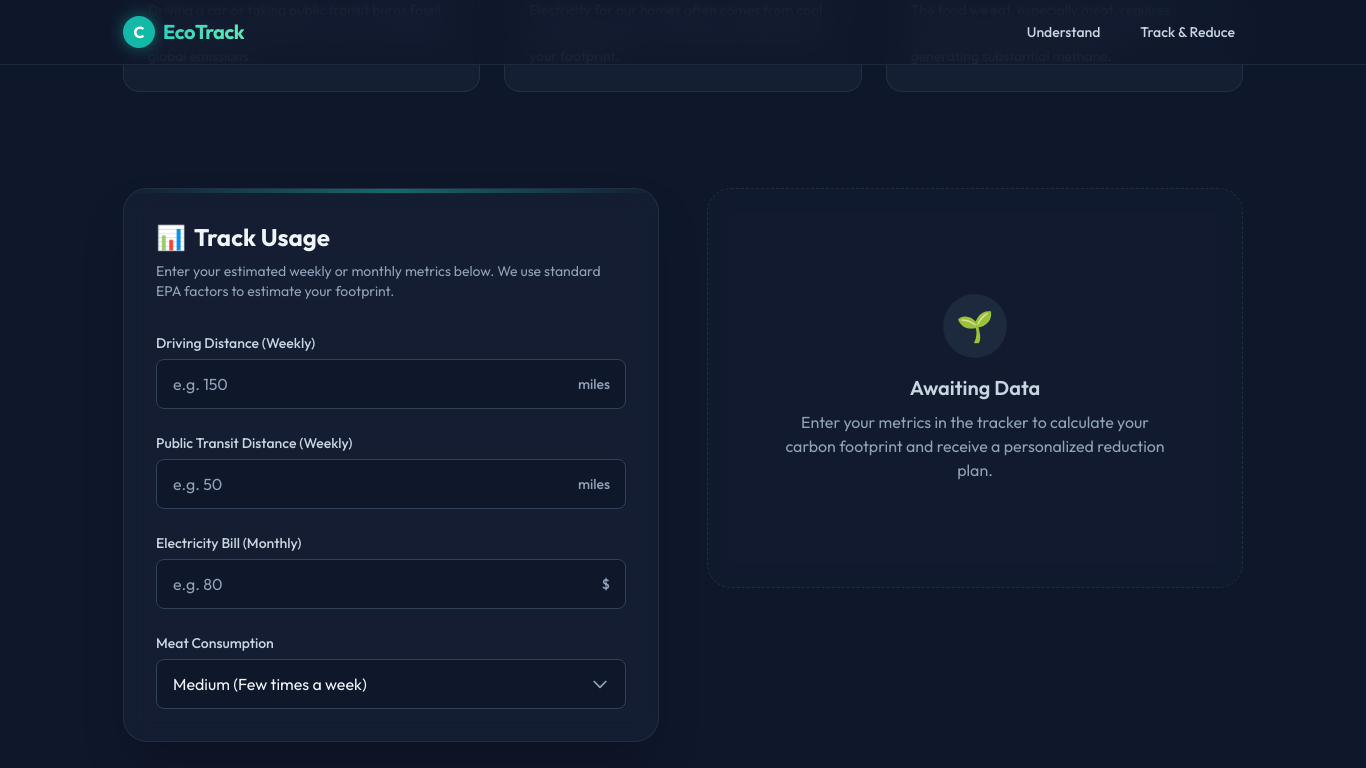
App Integration Test › updates total weekly emissions and personalized tips dynamically when user inputs data
This screenshot has width=1366, height=768.
(page scrolled)
# Enter transport data
Step 1. Type "100" into the field labelled "Driving Distance (Weekly)" → (391, 384), box [156,359,626,409]
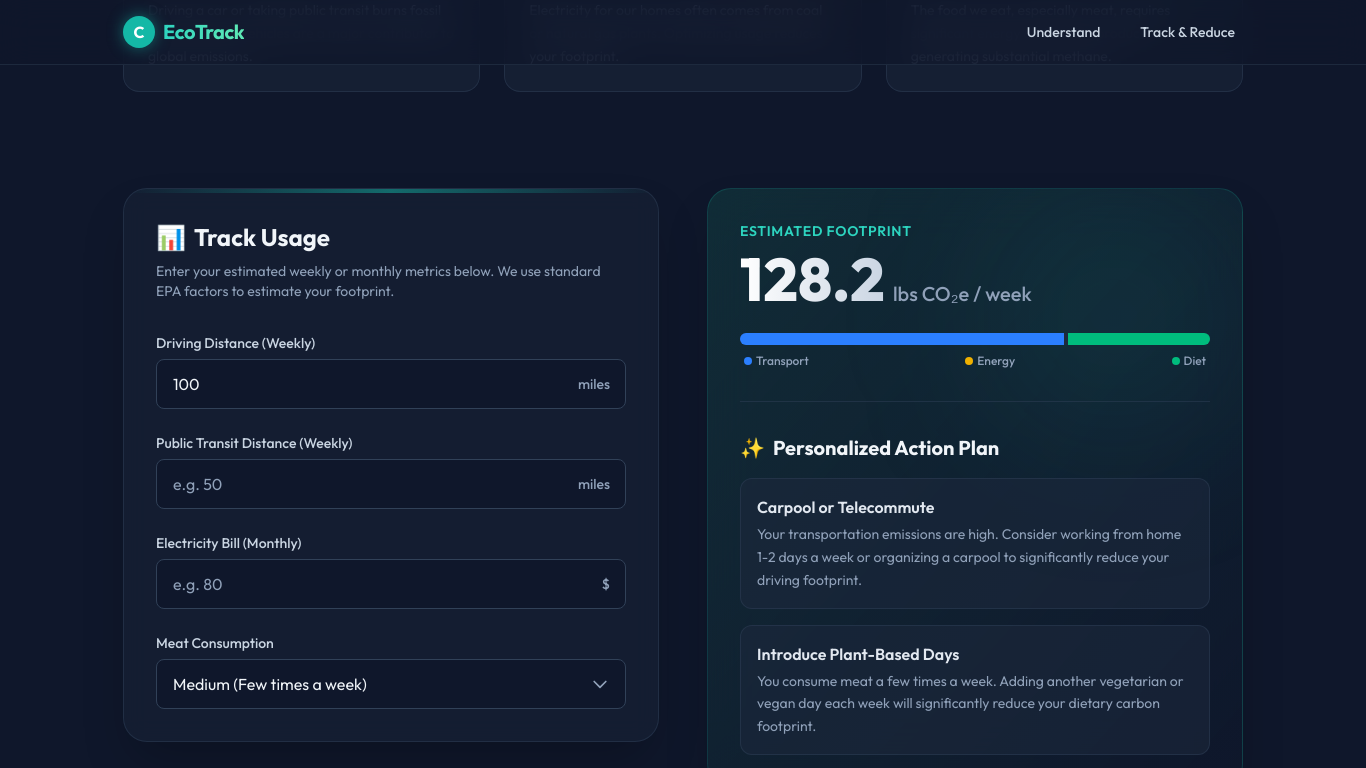
Step 2. Type "50" into the field labelled "Public Transit Distance (Weekly)" → (391, 484), box [156,459,626,509]
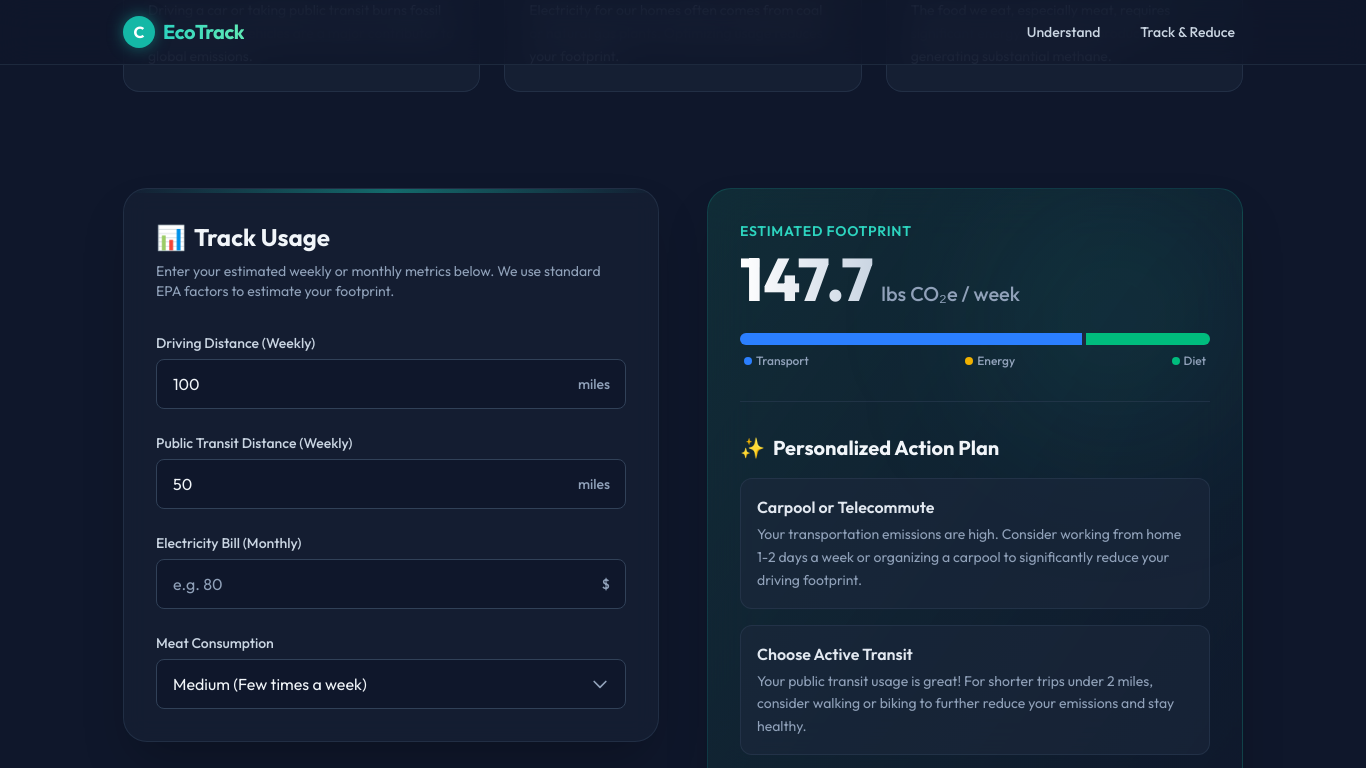
# Enter energy data
Step 3. Type "48" into the field labelled "Electricity Bill (Monthly)" → (391, 584), box [156,559,626,609]
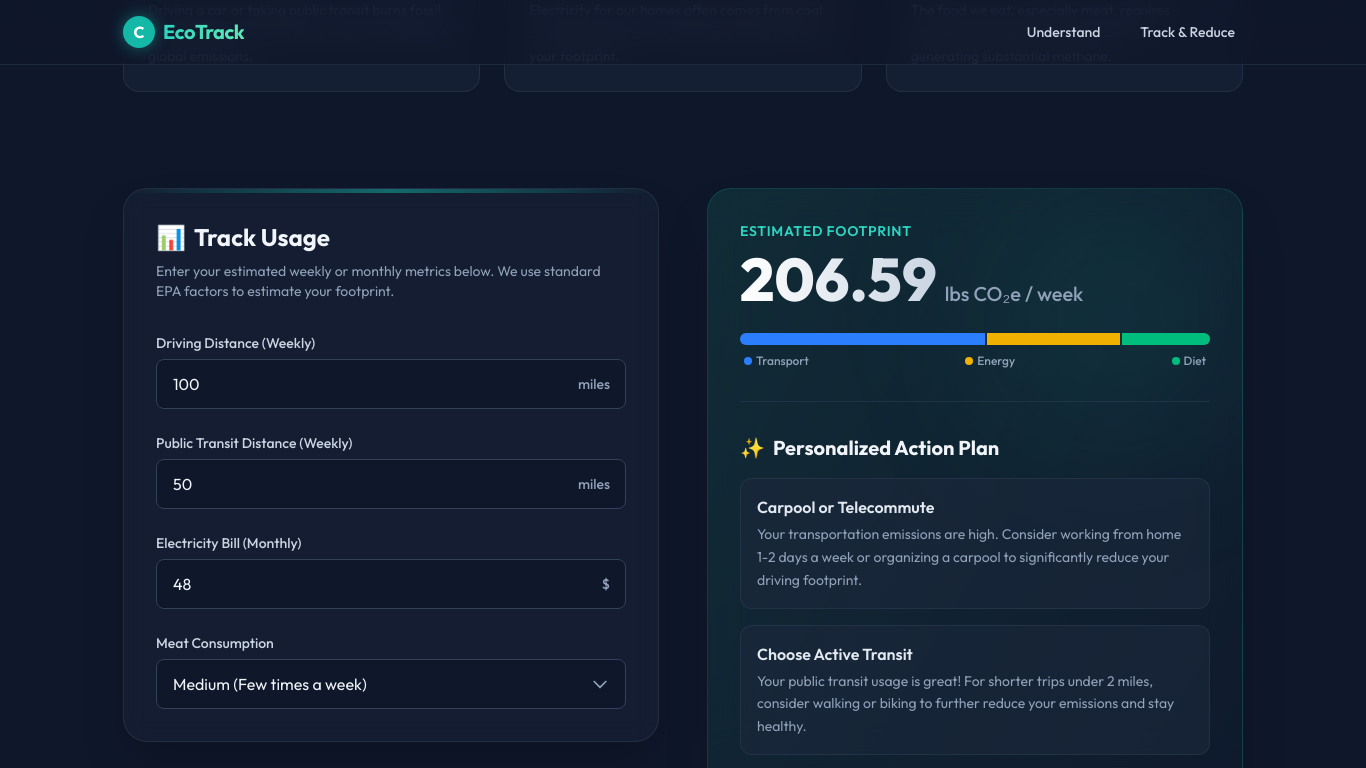
# Change meat consumption to high
Step 4. Select "High (Daily meat)" in the dropdown labelled "Meat Consumption" → (391, 684), box [156,659,626,709]
(page scrolled)
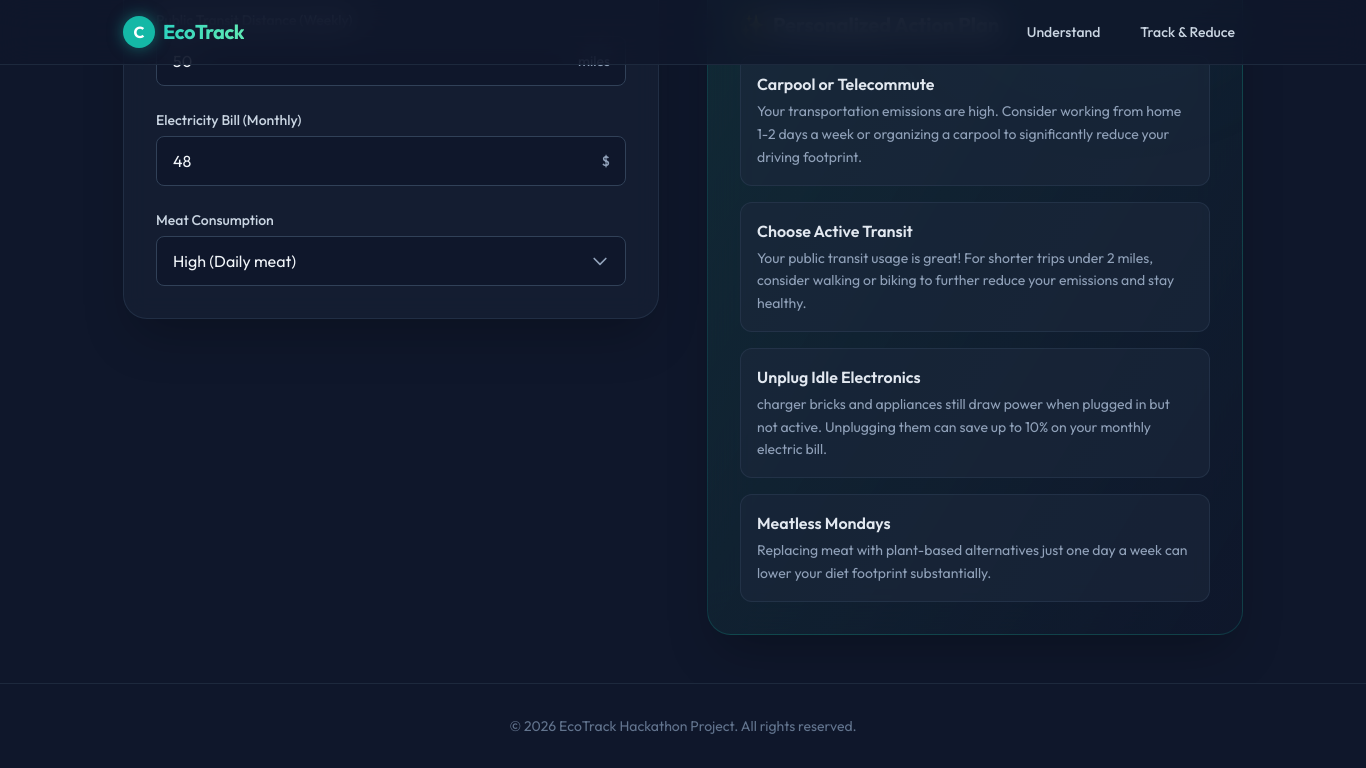
Expected: the heading "Awaiting Data" is not shown
Expected: the heading "Carpool or Telecommute" is shown, [757,74,934,94]
Expected: the heading "Meatless Mondays" is shown, [757,513,891,533]
